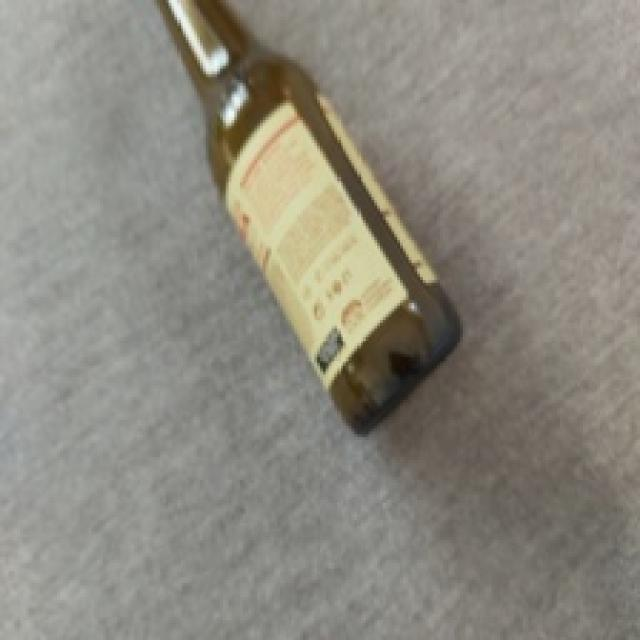Glass: (154, 0, 460, 437)
